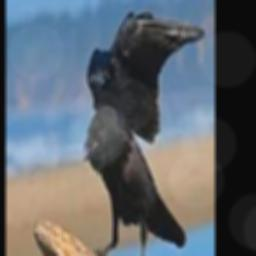Crow: (83, 10, 204, 256)
